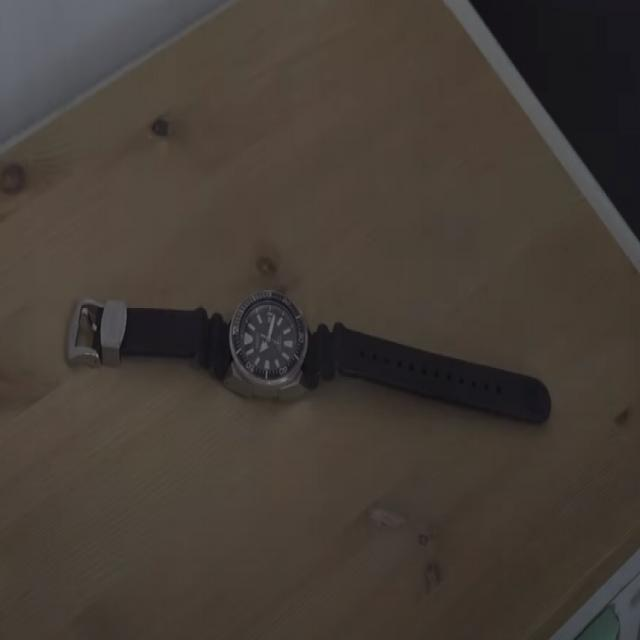Watch: (65, 288, 548, 420)
